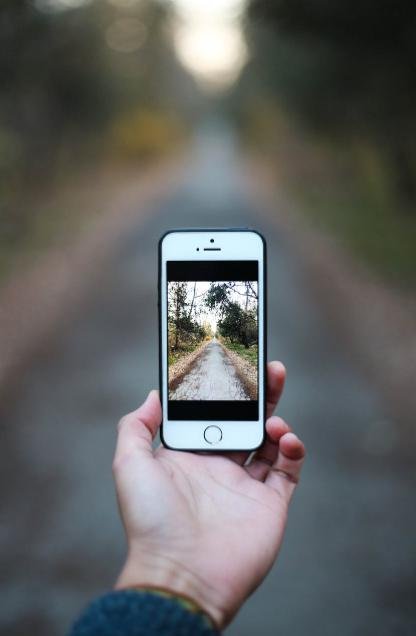mobile: (160, 230, 267, 455)
